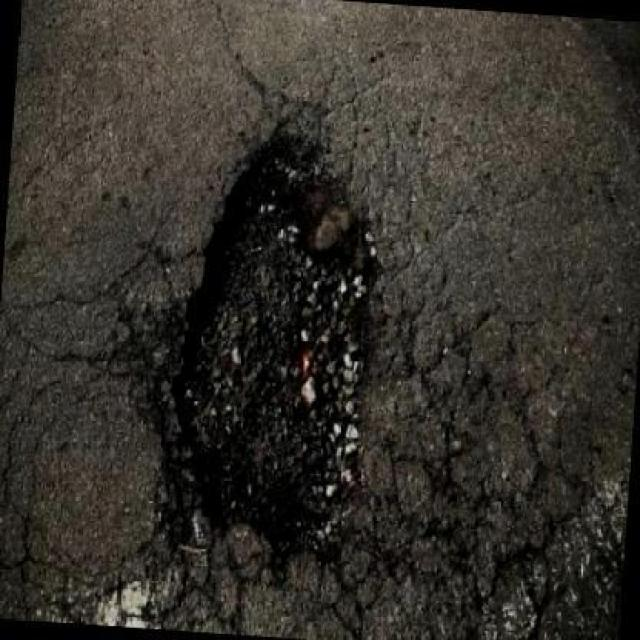pothole: (86, 103, 385, 588)
